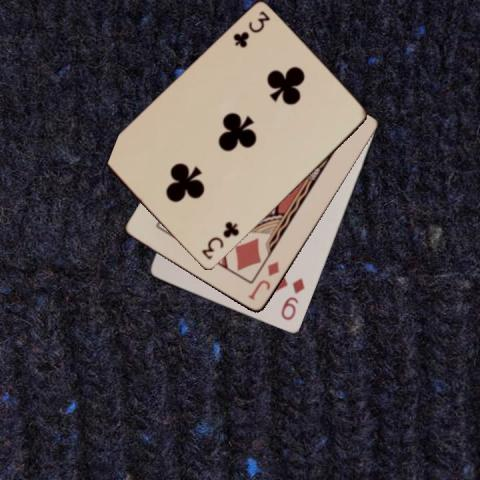3c: (198, 219, 240, 261), (230, 9, 272, 50)
9d: (278, 275, 307, 322)
Jd: (245, 259, 281, 302)
